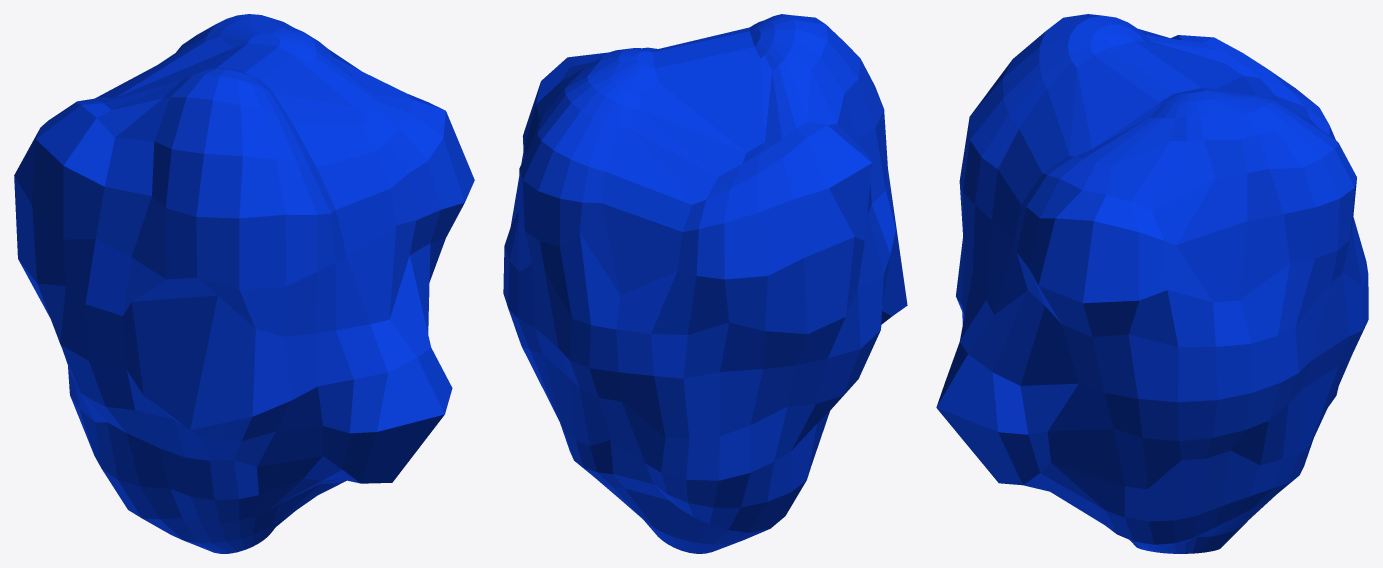
File: FINAL SEAL.fbx
3 views of the same model, side by side, from view 1: azimuth 30°, elevation 25°; view 2: azimuth 150°, elevation 25°; view 3: azimuth 270°, elevation 25° (orthographic).
Visible parts, largest first — view 1: Outer; view 2: Outer; view 3: Outer.
Part boxes in pixels (<box>): Outer: <box>14,14,474,553</box>; Outer: <box>503,14,907,553</box>; Outer: <box>936,14,1368,553</box>.
Size of the model in its own units: 233 by 304 by 232.
